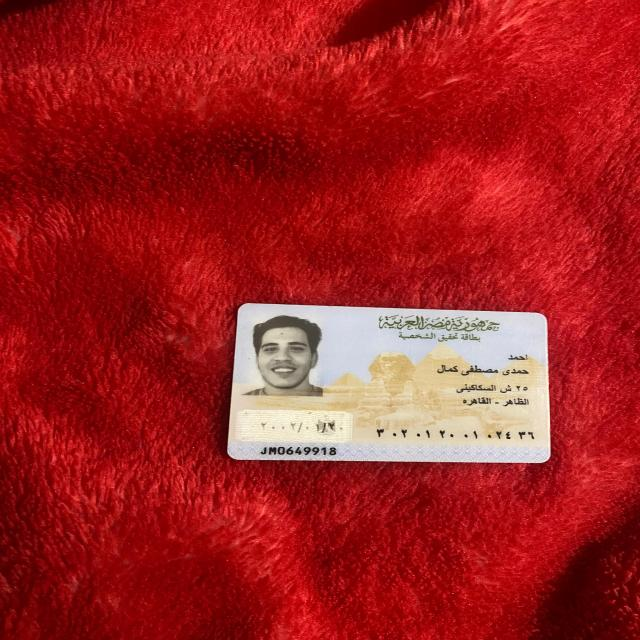ID-cards: (215, 296, 564, 478)
